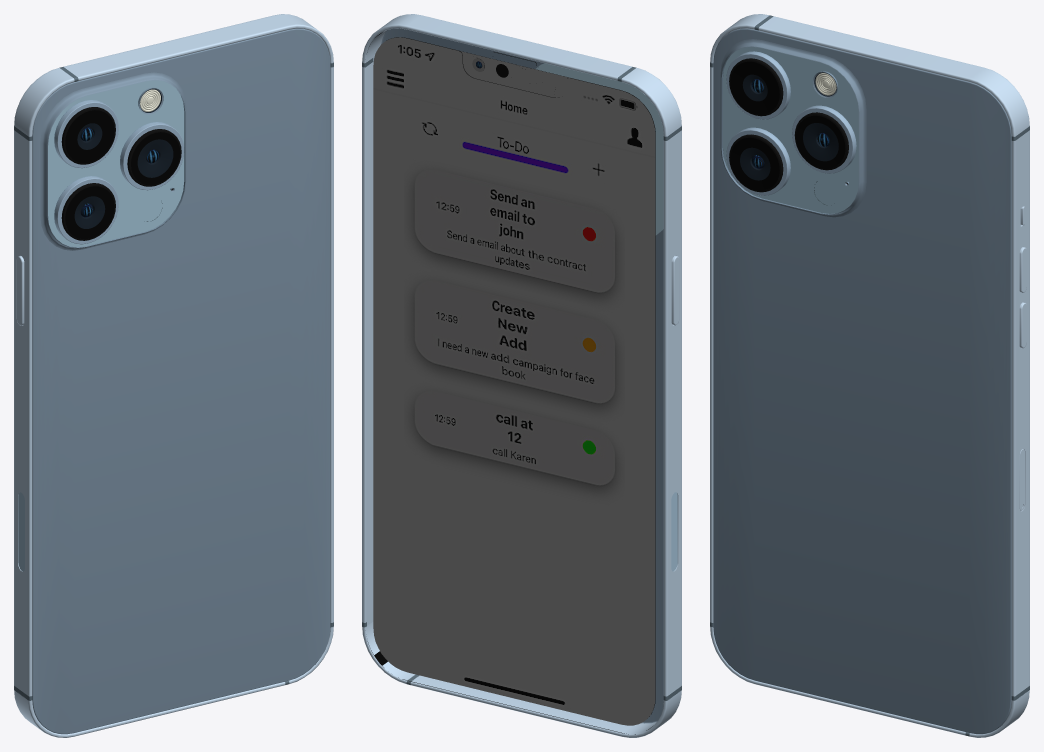
File: Iphone13ProMaxTodoScreen.gltf
The picture shows the model from 3 angles, left to right: view 1: azimuth 30°, elevation 25°; view 2: azimuth 150°, elevation 25°; view 3: azimuth 330°, elevation 25°; orthographic projection.
Visible parts, largest first — view 1: Body, Frame, Camera, Camera.001, Button; view 2: Body, Frame, Camera, Button; view 3: Body, Frame, Camera, Camera.001, Button.
Part boxes in pixels (x1,y1,x2,y2): Body: (32,28,330,734); Frame: (14,14,333,737); Camera: (40,72,186,250); Camera.001: (54,87,184,244); Button: (16,256,24,325); Body: (367,28,663,734); Frame: (362,14,681,737); Camera: (535,63,663,235); Button: (671,255,679,325); Body: (713,28,1011,734); Frame: (710,14,1029,737); Camera: (720,39,866,217); Camera.001: (726,51,856,195); Button: (1019,247,1026,348).
Size of what is drawn, in the model's own units: 0.4873 by 0.9905 by 0.0633.
19 materials, 3 textured.
